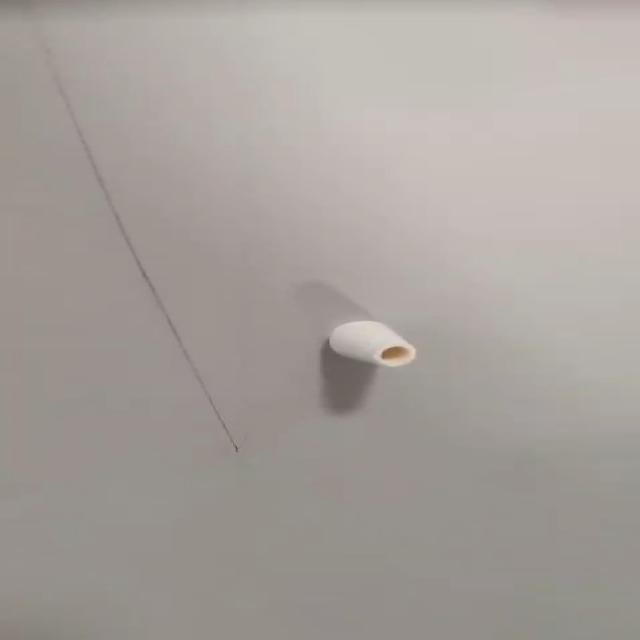Z1x1x1: (324, 315, 426, 374)
